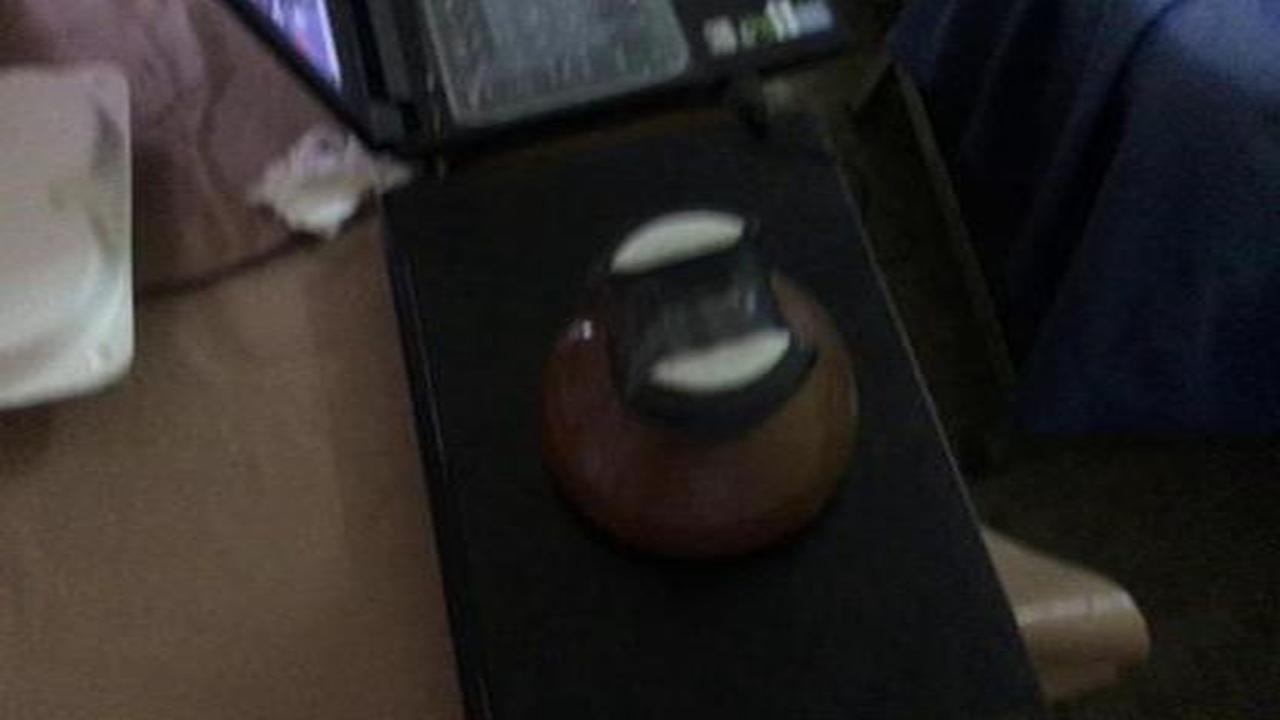insulator_pin: (499, 193, 890, 579)
